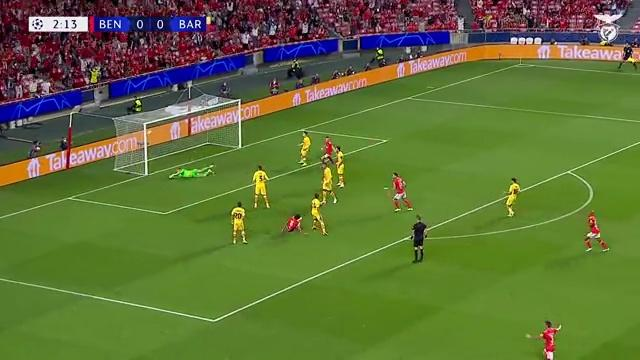football: (146, 128, 155, 138)
player: (585, 211, 609, 251), (538, 321, 561, 359), (392, 172, 412, 211), (252, 166, 269, 208), (311, 193, 327, 234), (231, 202, 246, 243), (322, 163, 337, 203), (169, 165, 214, 178), (505, 178, 520, 216), (299, 131, 310, 165), (282, 214, 302, 232), (336, 146, 344, 187), (321, 136, 333, 162)
referee: (411, 216, 427, 262), (618, 42, 636, 69)
